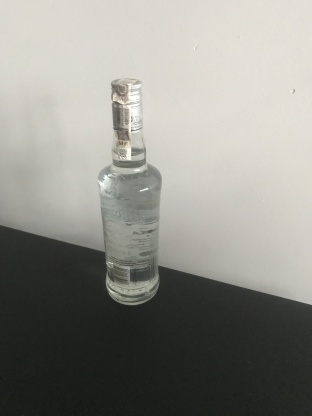nakretka: (109, 76, 144, 135)
